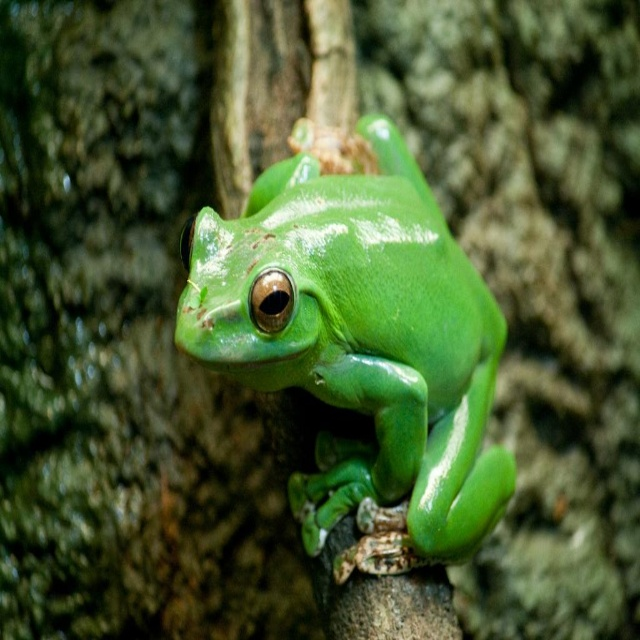Frog: (174, 109, 516, 576)
